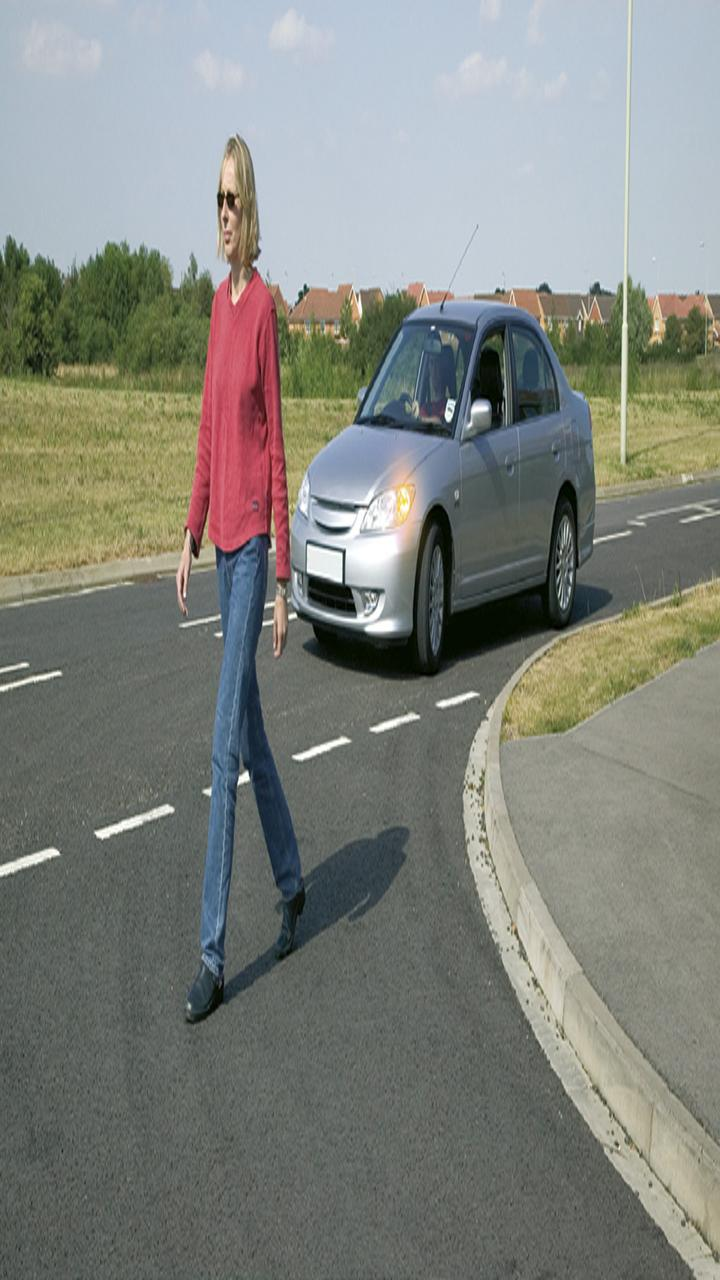pedestrian: (131, 112, 322, 1025)
vehicle: (287, 287, 623, 671)
